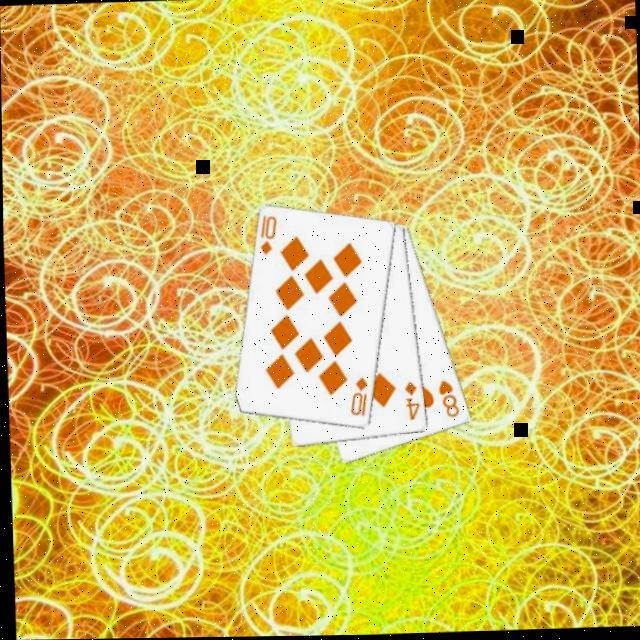10D: (255, 212, 281, 257), (346, 374, 371, 418)
4D: (401, 378, 423, 423)
8H: (434, 377, 462, 421)
